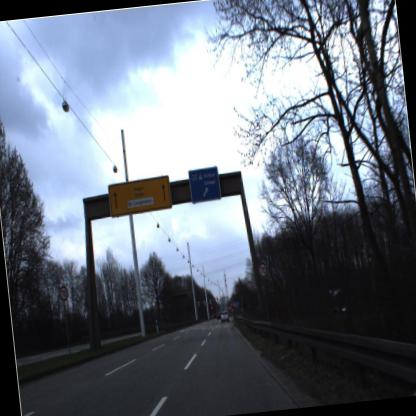prohibitory: (255, 256, 272, 284), (55, 278, 70, 308)
